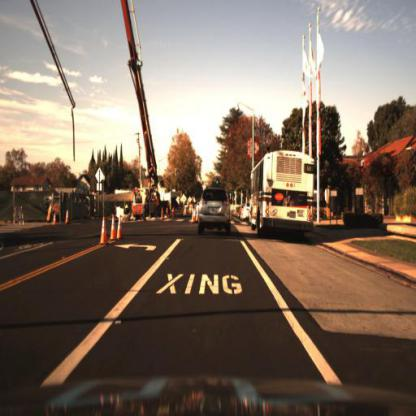car: (192, 184, 235, 239), (243, 197, 254, 226)
pedestrian: (138, 189, 148, 227), (155, 191, 163, 220), (123, 199, 132, 220)
truck: (27, 2, 165, 221), (247, 148, 321, 245)
